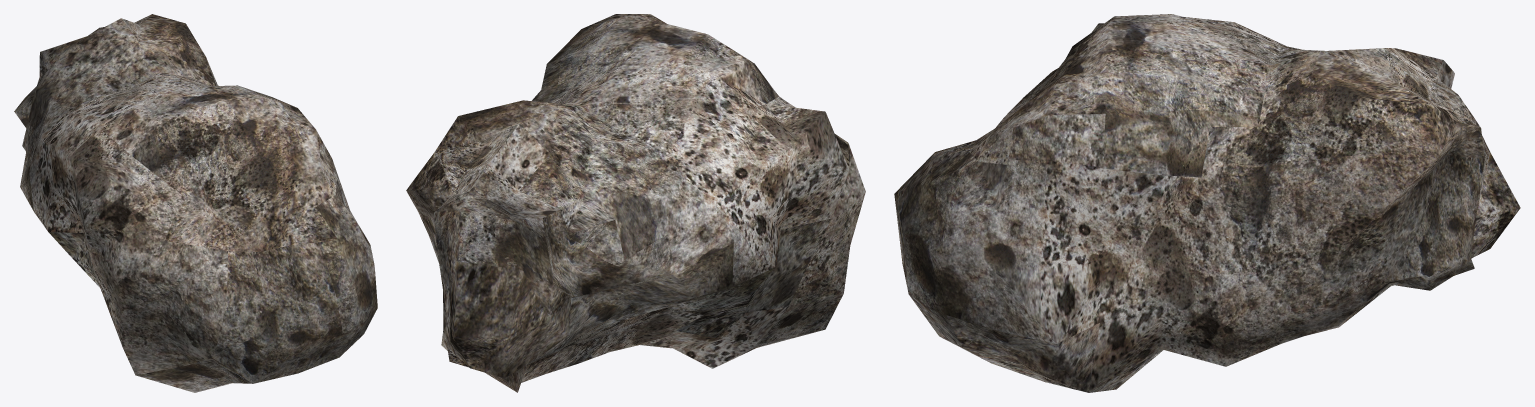
The model's file is Rock_10x20_B.FBX.
The picture shows the model from 3 angles, left to right: view 1: azimuth 30°, elevation 25°; view 2: azimuth 150°, elevation 25°; view 3: azimuth 270°, elevation 25°; orthographic projection. The views are drawn at different scales.
Visible parts, largest first — view 1: Rock_10x20_B; view 2: Rock_10x20_B; view 3: Rock_10x20_B.
Part boxes in pixels (x1,y1,x2,y2): Rock_10x20_B: (14, 14, 377, 392); Rock_10x20_B: (406, 14, 865, 392); Rock_10x20_B: (894, 14, 1520, 392).
Size of the model in its own units: 12.1 by 11.96 by 20.93.
1 material, 1 textured.
